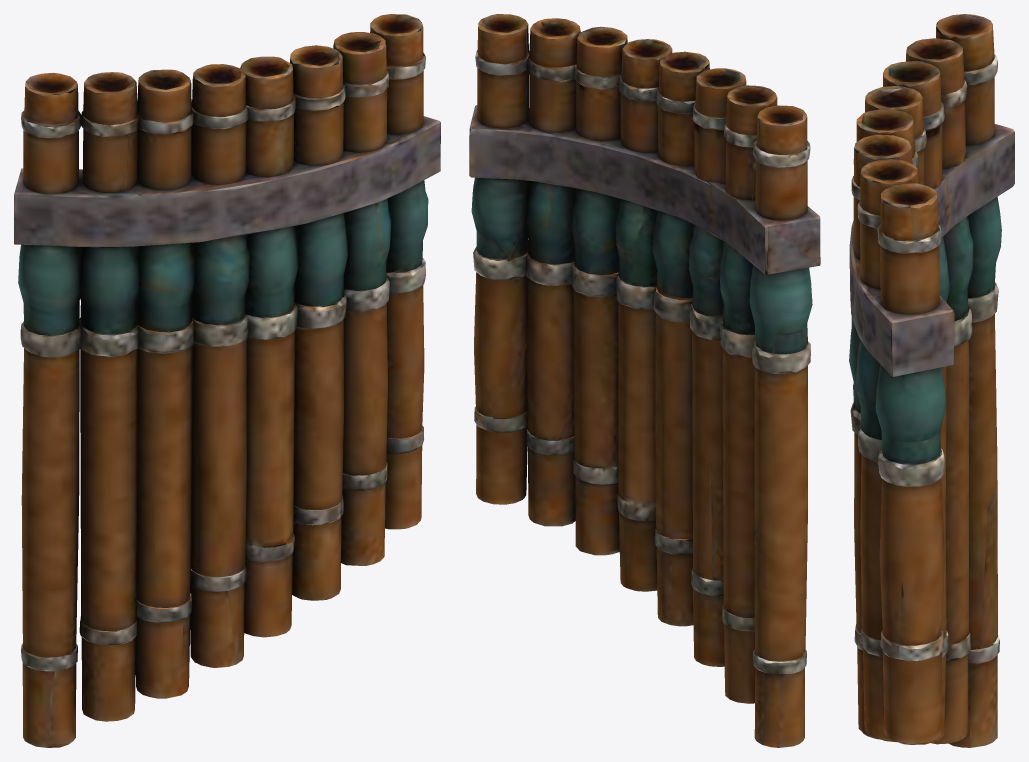
Rendered from MZ4250 - Pan Flute.glb.
3 views of the same model, side by side, from view 1: azimuth 30°, elevation 25°; view 2: azimuth 150°, elevation 25°; view 3: azimuth 270°, elevation 25° (orthographic). The views are drawn at different scales.
Visible parts, largest first — view 1: Pan Flute.001; view 2: Pan Flute.001; view 3: Pan Flute.001.
Boxes of the visible parts, x1,y1,x2,y2 form: Pan Flute.001: (14,14,440,747); Pan Flute.001: (469,14,820,747); Pan Flute.001: (849,14,1014,747).
Bounding box in the file's own units: 4.94 × 7.83 × 1.66.
1 material, 1 textured.
